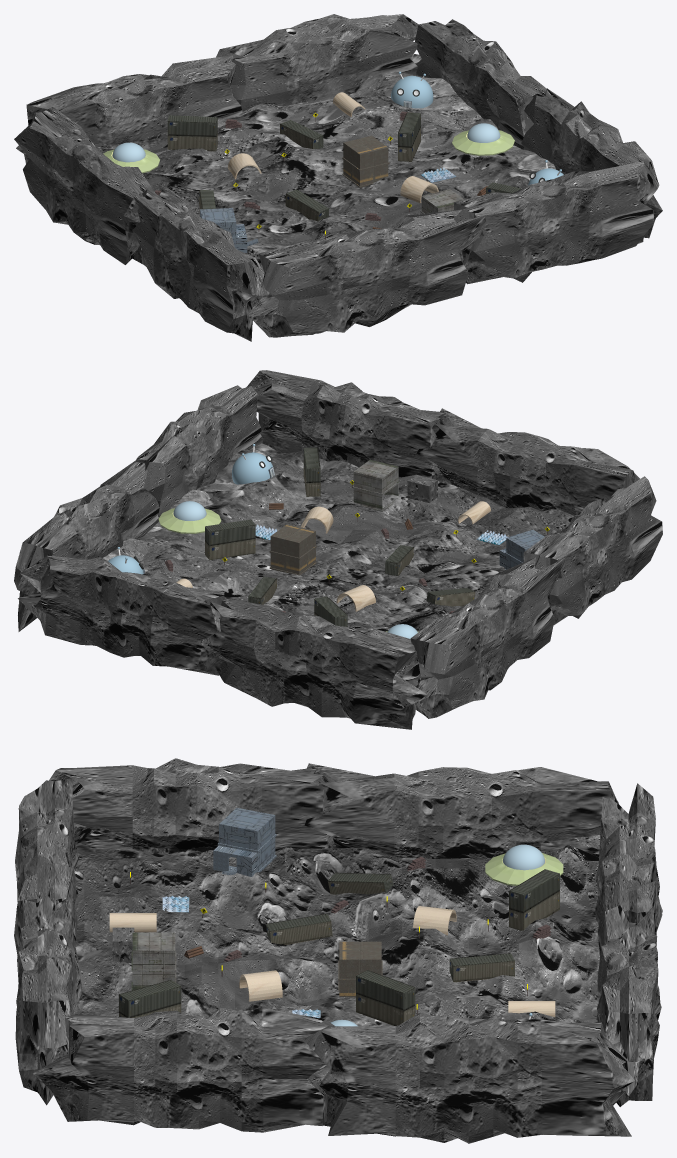
The model's file is FPS1031.fbx.
3 views of the same model, one above another, from view 1: azimuth 30°, elevation 25°; view 2: azimuth 150°, elevation 25°; view 3: azimuth 270°, elevation 25° (orthographic). The views are drawn at different scales.
Parts seen in each view (by area): view 1: outwall.001, outwall, moon surface.006, building_181, Cube.026, ufo, Base.001, ufo.001, building_181.002, Cube.027, Cube.017, Cube.024 (+2 smaller); view 2: outwall.001, outwall, moon surface.006, building_181, building_181.003, Cube.027, ufo, Base.002, building_181.002, Cube.025, Cube.023, moon rock.009 (+4 smaller); view 3: outwall, moon surface.006, outwall.001, building_181.002, Cube.027, building_181.003, Cube.026, ufo.001, building_181, Cube.025, Cube.024, Cube.017 (+6 smaller).
Boxes of the visible parts, x1,y1,x2,y2 form: outwall.001: (16, 14, 659, 337); outwall: (14, 19, 662, 341); moon surface.006: (94, 71, 555, 300); building_181: (342, 135, 389, 187); Cube.026: (167, 115, 217, 151); ufo: (452, 123, 514, 155); Base.001: (391, 71, 433, 108); ufo.001: (103, 142, 159, 173); building_181.002: (200, 208, 258, 252); Cube.027: (398, 112, 420, 161); Cube.017: (285, 189, 329, 221); Cube.024: (280, 120, 323, 148); outwall.001: (18, 370, 639, 729); outwall: (14, 385, 662, 718); moon surface.006: (102, 443, 573, 679); building_181: (269, 524, 316, 575); building_181.003: (352, 459, 399, 511); Cube.027: (205, 519, 255, 560); ufo: (158, 501, 221, 533); Base.002: (232, 444, 274, 484); building_181.002: (499, 529, 544, 569); Cube.025: (303, 447, 320, 496); Cube.023: (426, 588, 475, 606); moon rock.009: (407, 475, 437, 502); outwall: (32, 758, 634, 1143); moon surface.006: (74, 844, 599, 1026); outwall.001: (14, 778, 662, 1106); building_181.002: (213, 807, 276, 876); Cube.027: (356, 970, 415, 1025); building_181.003: (131, 932, 176, 990); Cube.026: (509, 869, 559, 930); ufo.001: (485, 844, 563, 885); building_181: (338, 941, 382, 997); Cube.025: (119, 979, 181, 1017); Cube.024: (449, 953, 514, 982); Cube.017: (266, 913, 332, 944).
Size of the model in its own units: 5797 by 24355 by 24264.
